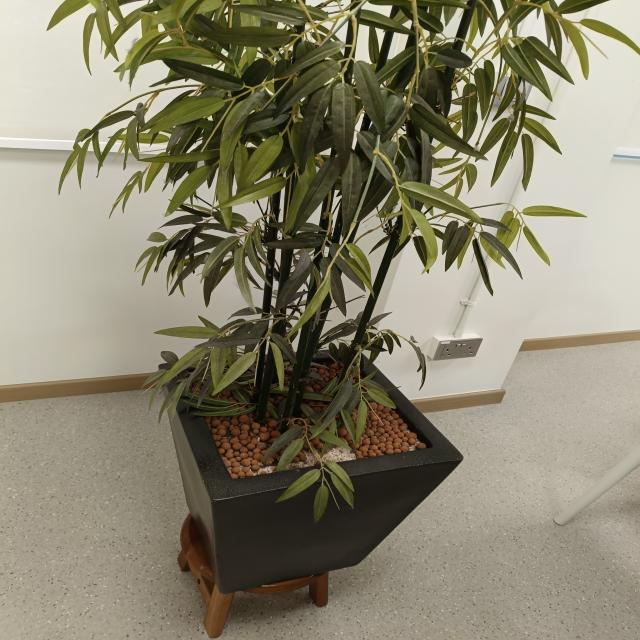Pot: (156, 343, 465, 592)
